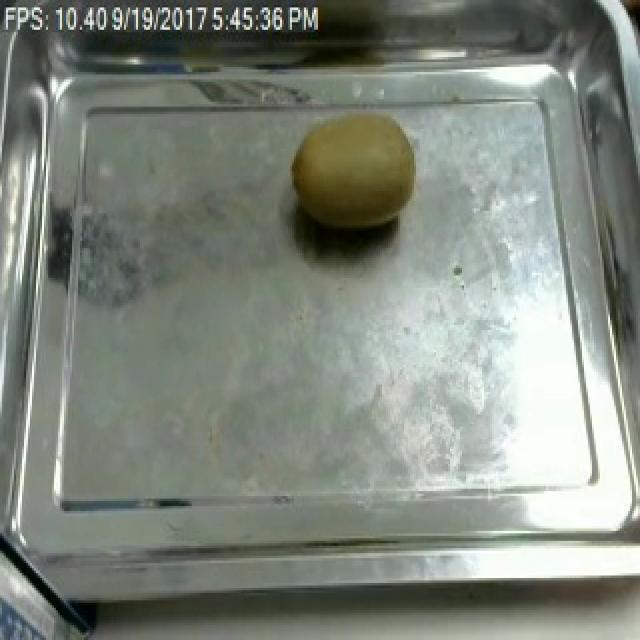Fruit: (284, 104, 428, 243)
